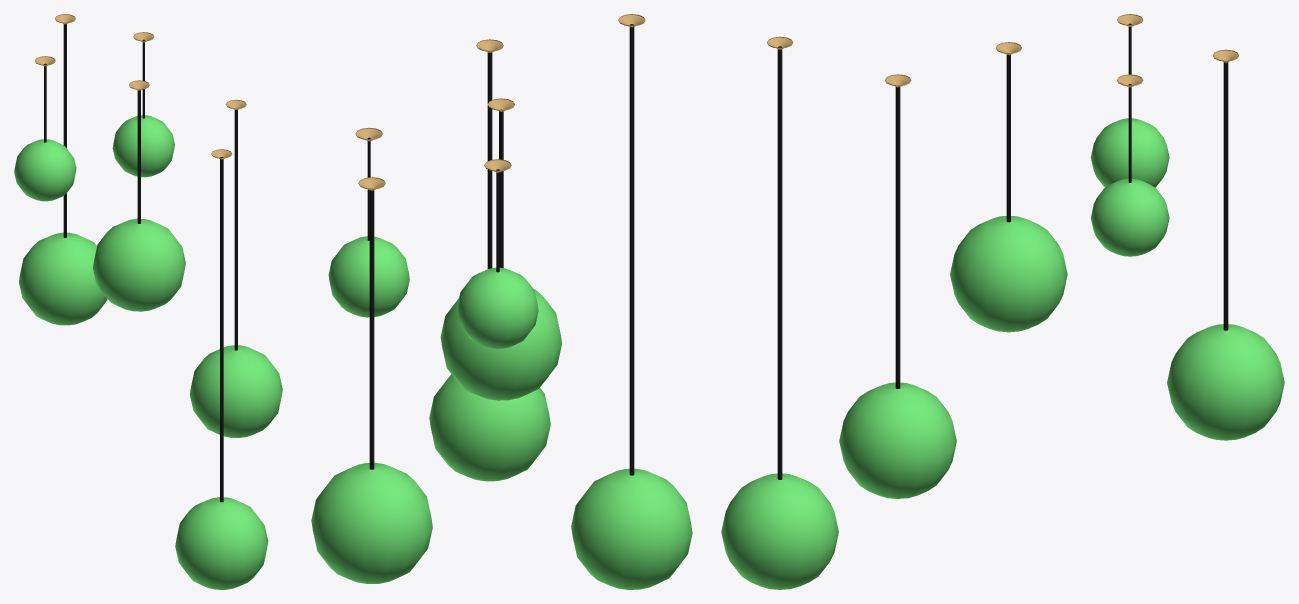
Rendered from Lamps_Loung.FBX.
3 views of the same model, side by side, from view 1: azimuth 30°, elevation 25°; view 2: azimuth 150°, elevation 25°; view 3: azimuth 270°, elevation 25° (orthographic). The views are drawn at different scales.
Parts seen in each view (by area): view 1: Lights; view 2: Lights; view 3: Lights.
Boxes of the visible parts, left/top/right/bottom form: Lights: left=14, top=14, right=282, bottom=589; Lights: left=311, top=14, right=692, bottom=589; Lights: left=721, top=14, right=1284, bottom=589.
Bounding box in the file's own units: 61.41 × 151 × 144.
